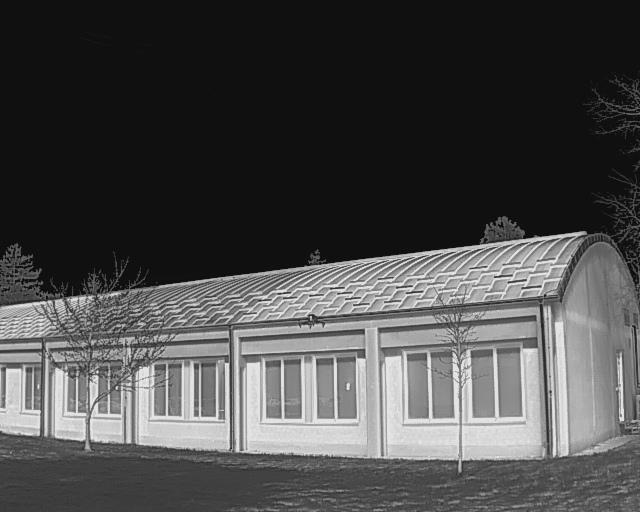drone: (293, 308, 331, 334)
